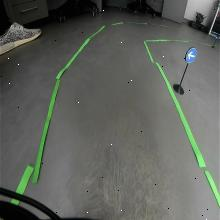left: (186, 46, 197, 64)
